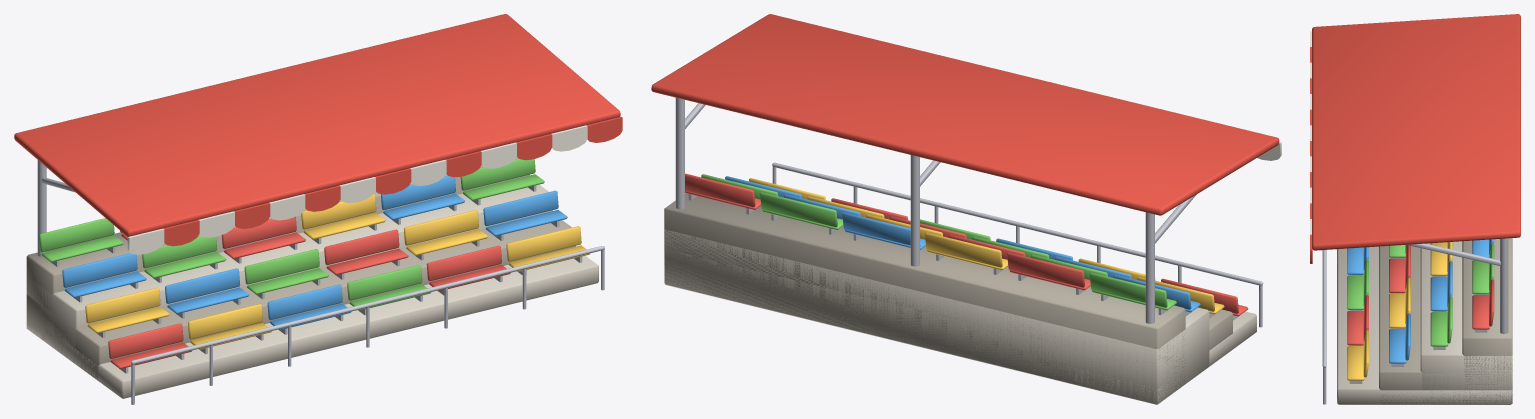
File: grandstand.glb
The picture shows the model from 3 angles, left to right: view 1: azimuth 30°, elevation 25°; view 2: azimuth 150°, elevation 25°; view 3: azimuth 270°, elevation 25°; orthographic projection. The views are drawn at different scales.
Visible parts, largest first — view 1: grandstand; view 2: grandstand; view 3: grandstand.
Part boxes in pixels (x1,y1,x2,y2): grandstand: (14, 14, 622, 404); grandstand: (651, 14, 1281, 404); grandstand: (1310, 14, 1520, 404).
Bounding box in the file's own units: 12.4 × 4.69 × 5.05.
